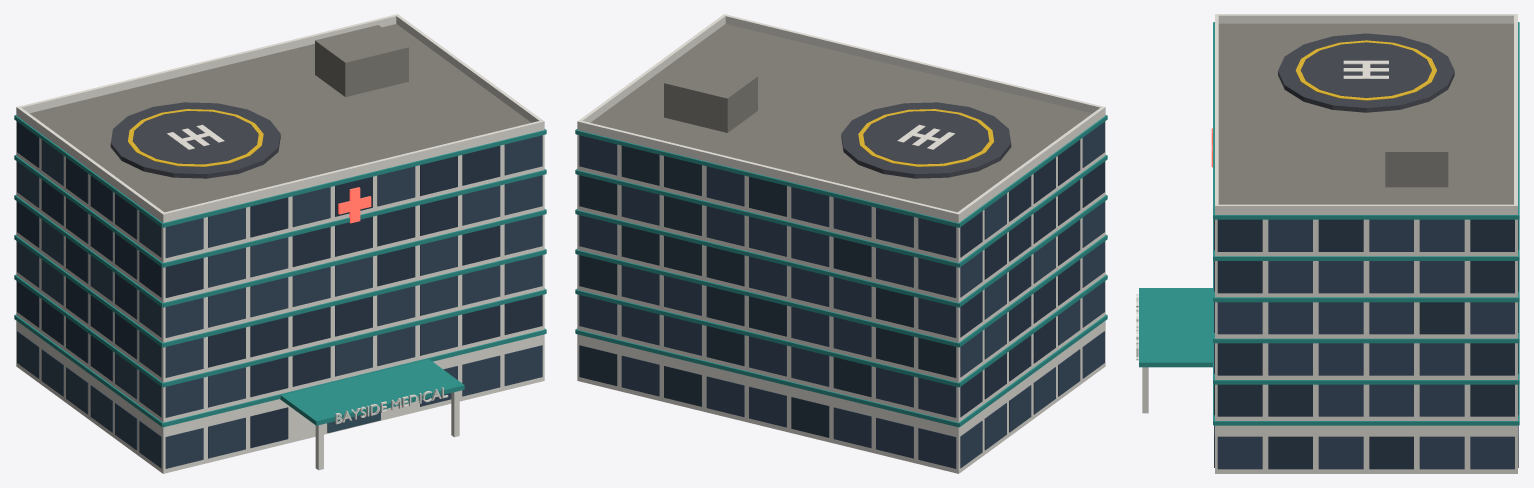
Rendered from hospital.glb.
The picture shows the model from 3 angles, left to right: view 1: azimuth 30°, elevation 25°; view 2: azimuth 150°, elevation 25°; view 3: azimuth 270°, elevation 25°; orthographic projection. The views are drawn at different scales.
Visible parts, largest first — view 1: hospital; view 2: hospital; view 3: hospital.
Boxes of the visible parts, x1=… form: hospital: x1=14, y1=14, x2=546, y2=473; hospital: x1=575, y1=14, x2=1107, y2=473; hospital: x1=1136, y1=14, x2=1519, y2=473.
Size of what is drawn, in the model's own units: 36.28 by 25.8 by 30.36.
